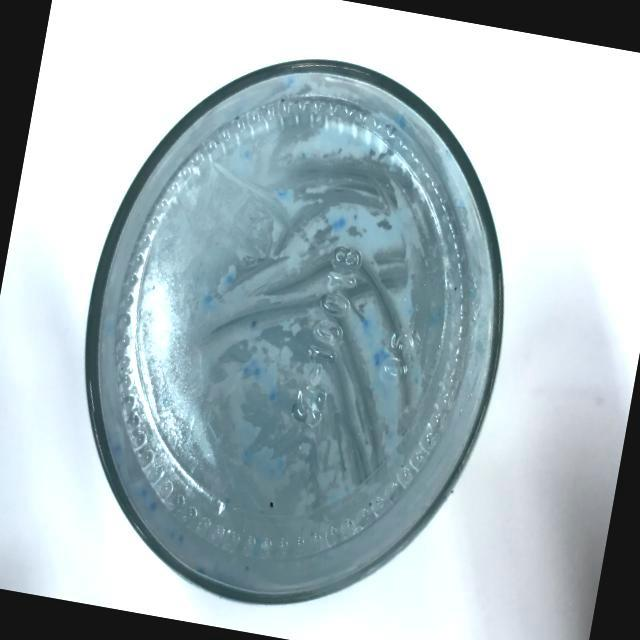glass: (29, 0, 560, 640)
